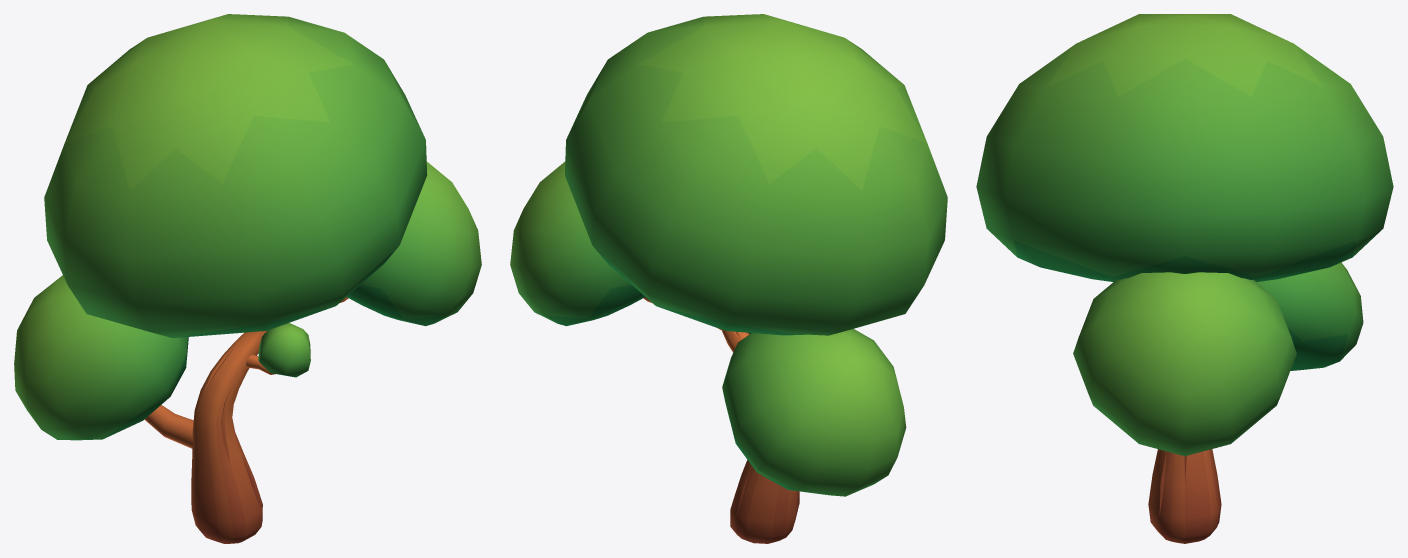
File: Tree_C_1x1.glb
The picture shows the model from 3 angles, left to right: view 1: azimuth 30°, elevation 25°; view 2: azimuth 150°, elevation 25°; view 3: azimuth 270°, elevation 25°; orthographic projection. The views are drawn at different scales.
Visible parts, largest first — view 1: Tree_C_1x1; view 2: Tree_C_1x1; view 3: Tree_C_1x1.
Part boxes in pixels (bbox=[...]): Tree_C_1x1: bbox=[14, 14, 481, 543]; Tree_C_1x1: bbox=[510, 14, 947, 543]; Tree_C_1x1: bbox=[976, 14, 1393, 543].
Bounding box in the file's own units: 6.69 × 7.81 × 5.75.
1 material, 1 textured.
